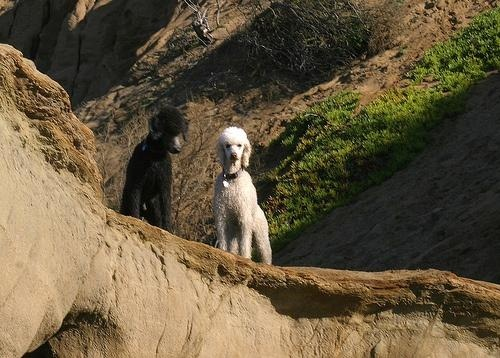dog: (213, 127, 275, 266), (121, 107, 188, 234)
